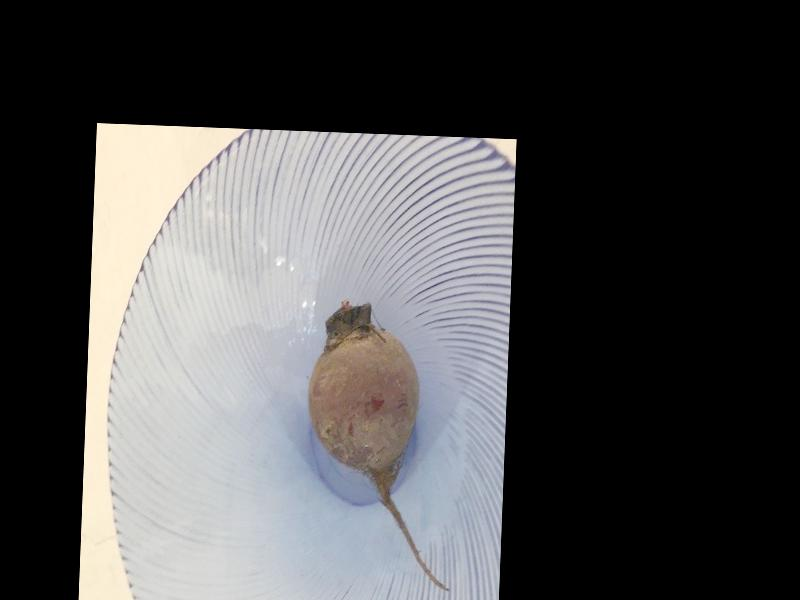Beet: (302, 301, 459, 590)
